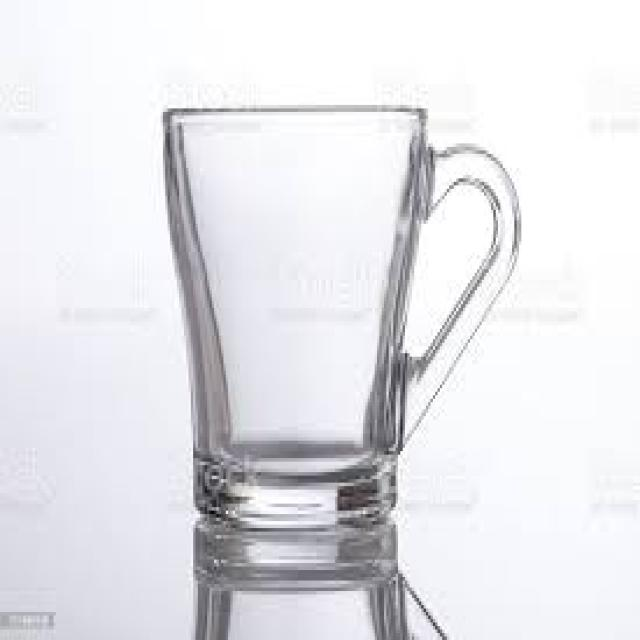glass: (161, 102, 519, 535)
